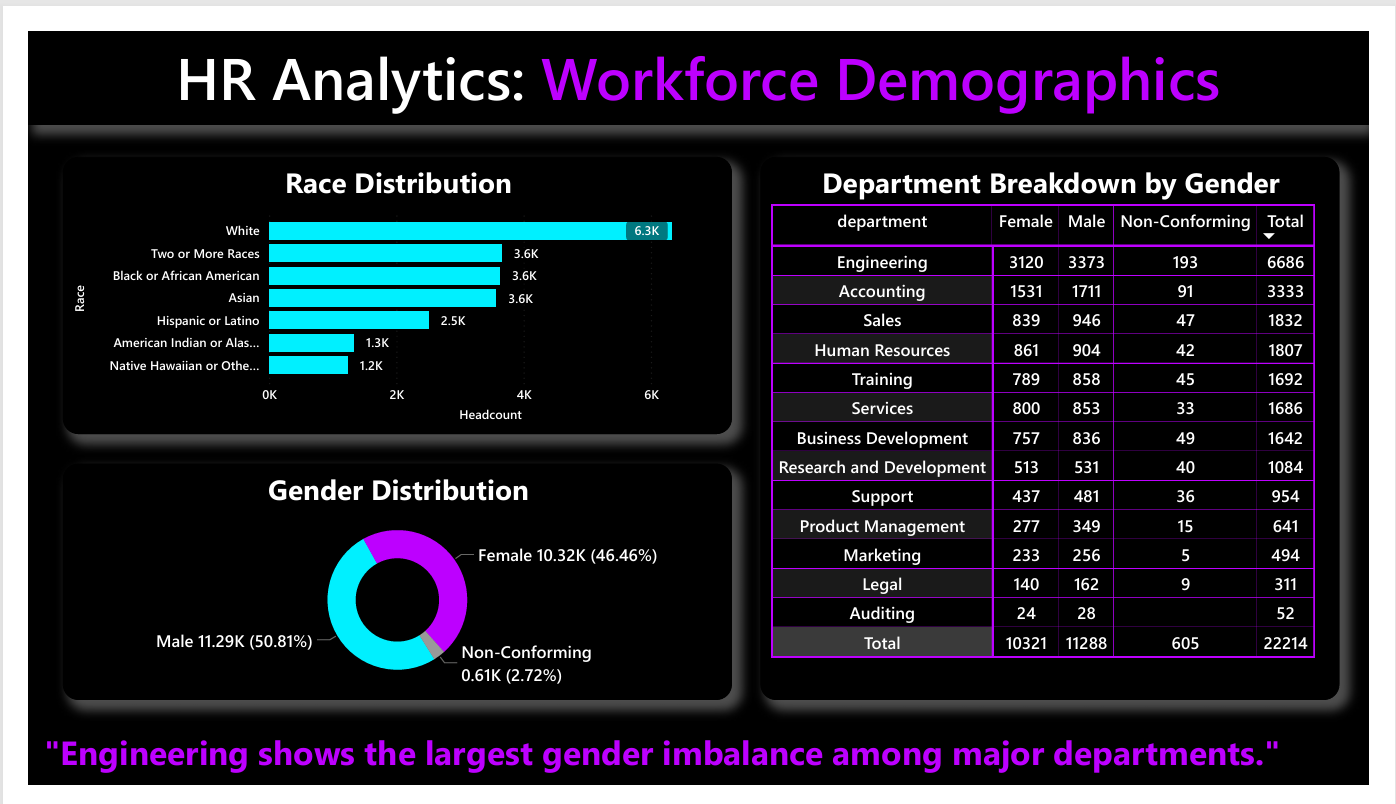

The page's visual inventory and layout, read from the dashboard file:
{"tool":"powerbi","page":{"name":"Diversity & Inclusion","canvas":[1280,720],"ordinal":3},"visuals":[{"type":"donutChart","title":"Gender Distribution","fields":{"Category":["Cleaned Data.gender"],"Y":["CountNonNull(Cleaned Data.id)"]},"box":[32.5,413.1,639.2,226.1],"z":0},{"type":"clusteredBarChart","title":"Race Distribution","fields":{"Category":["Cleaned Data.race"],"Y":["CountNonNull(Cleaned Data.id)"]},"box":[32.5,120.4,639.2,265.1],"z":1000},{"type":"pivotTable","title":"Department Breakdown by Gender","fields":{"Rows":["Cleaned Data.department"],"Columns":["Cleaned Data.gender"],"Values":["CountNonNull(Cleaned Data.id)"]},"box":[699.4,120.4,553,518.9],"z":2000},{"type":"textbox","box":[0,660.4,1280.1,60.2],"z":3000},{"type":"textbox","box":[0,0,1280.1,89.5],"z":4000}]}

Visuals, with their boxes in screenshot pixels (x1, y1, x2, y2), scaled from the page's 1280x720 canvas onto the 1396x804 screenshot:
"Gender Distribution" donutChart: (x1=35, y1=461, x2=733, y2=714)
"Race Distribution" clusteredBarChart: (x1=35, y1=134, x2=733, y2=430)
"Department Breakdown by Gender" pivotTable: (x1=763, y1=134, x2=1366, y2=714)
textbox: (x1=0, y1=737, x2=1395, y2=803)
textbox: (x1=0, y1=0, x2=1395, y2=100)
